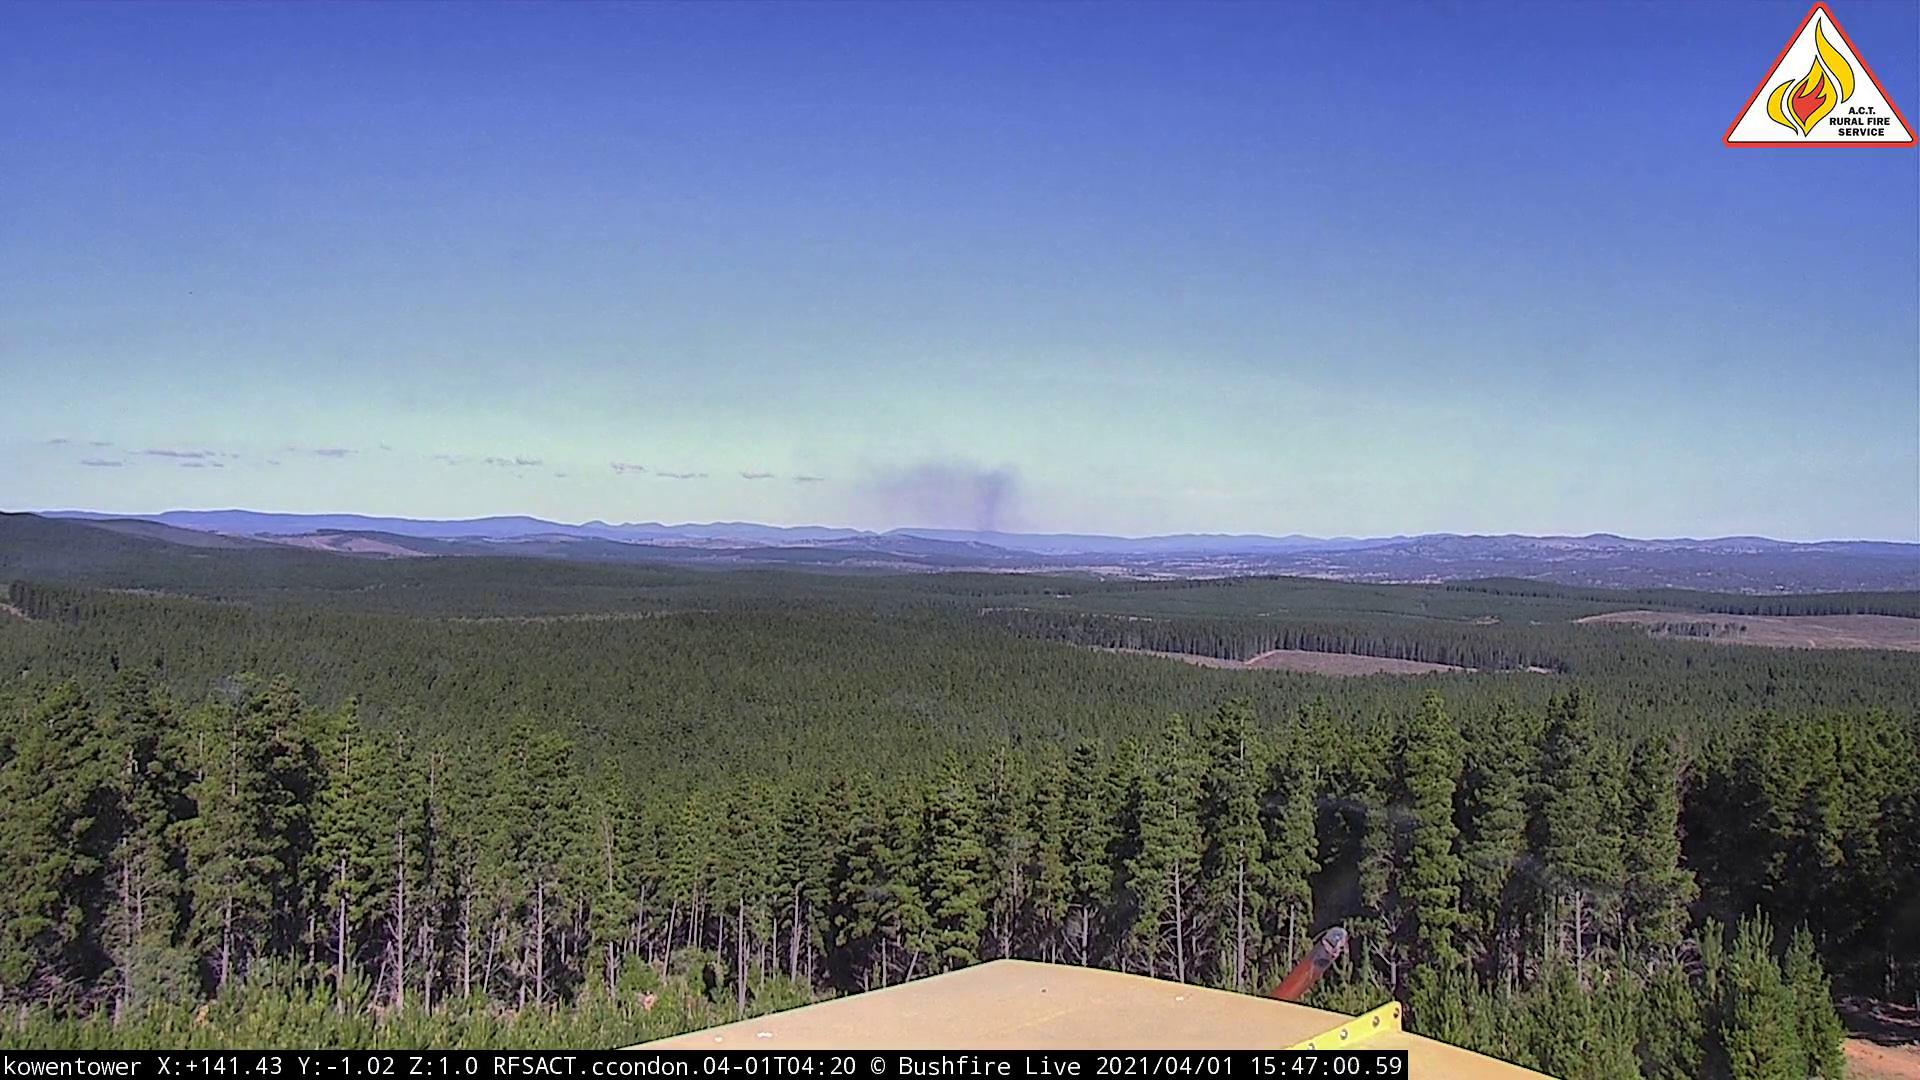Smoke: (870, 450, 1035, 553)
